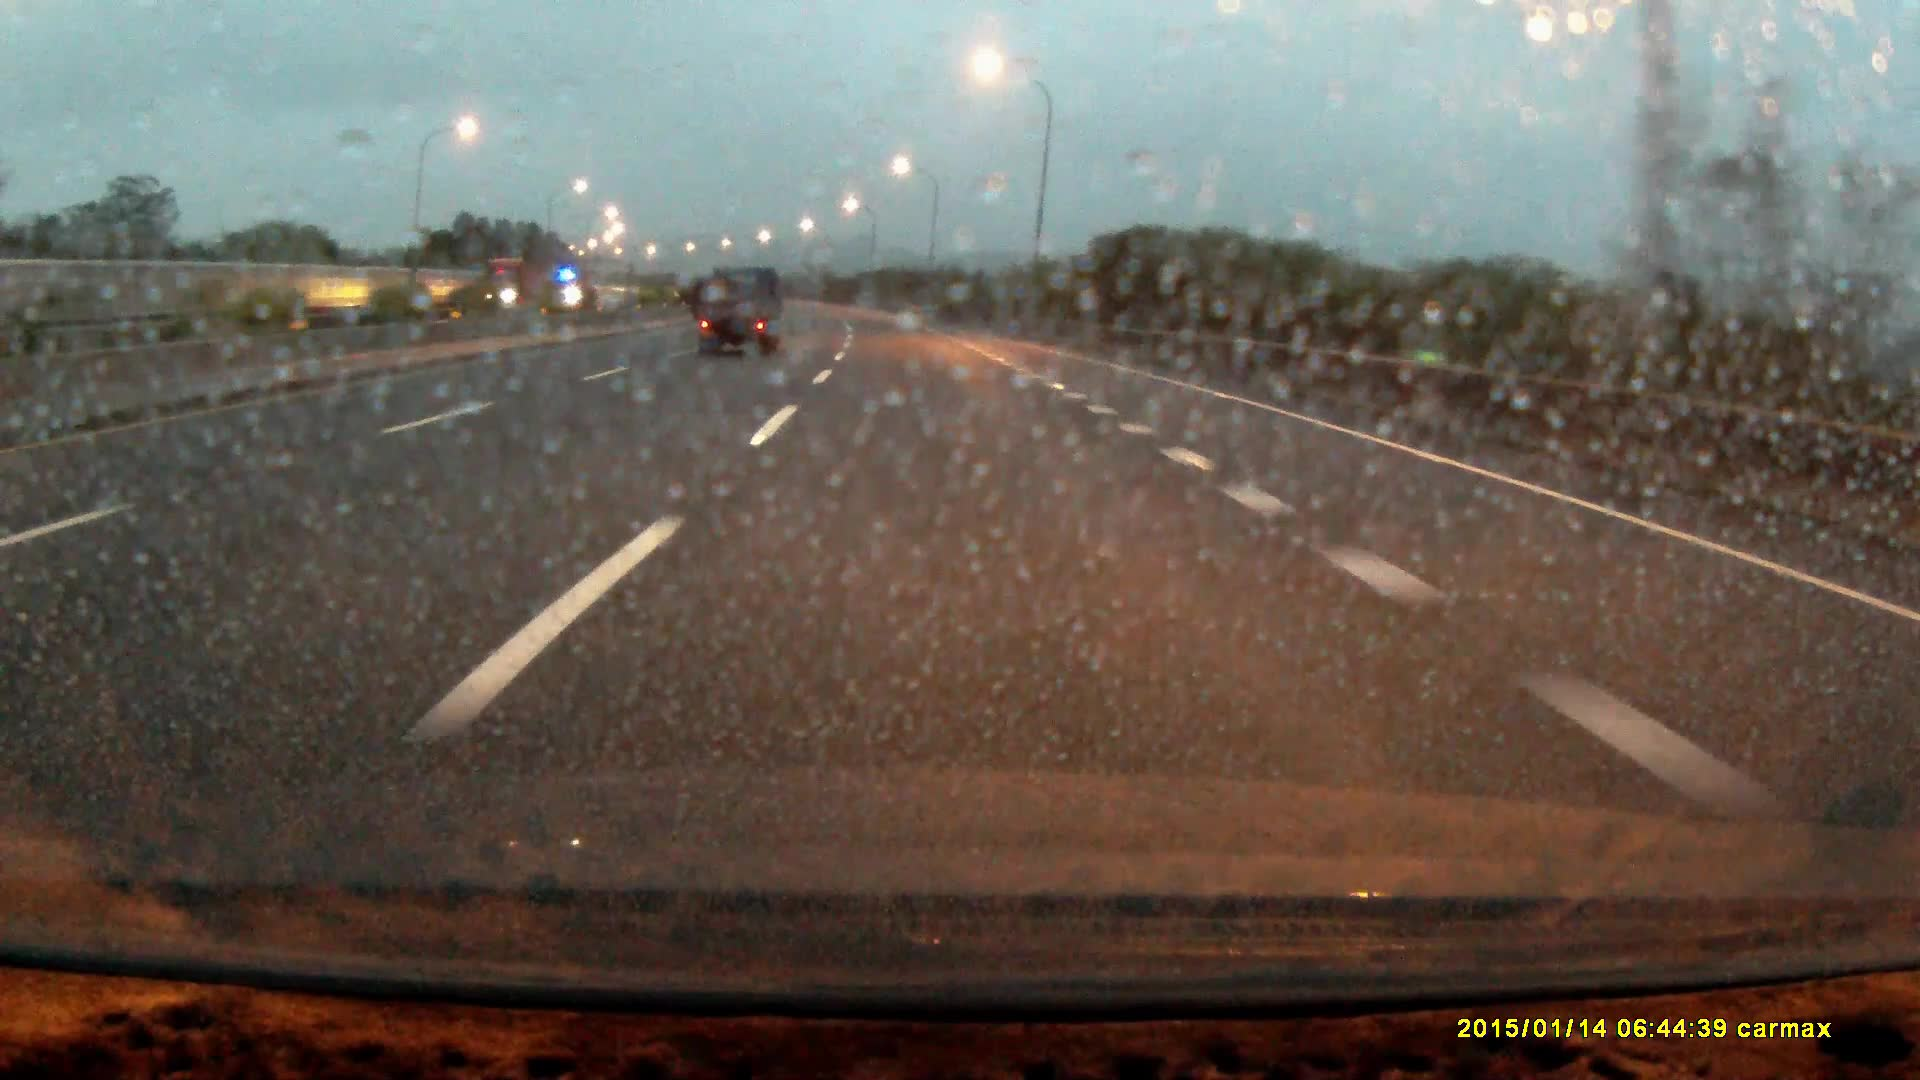vehicle: (700, 266, 781, 360), (480, 255, 543, 309)
